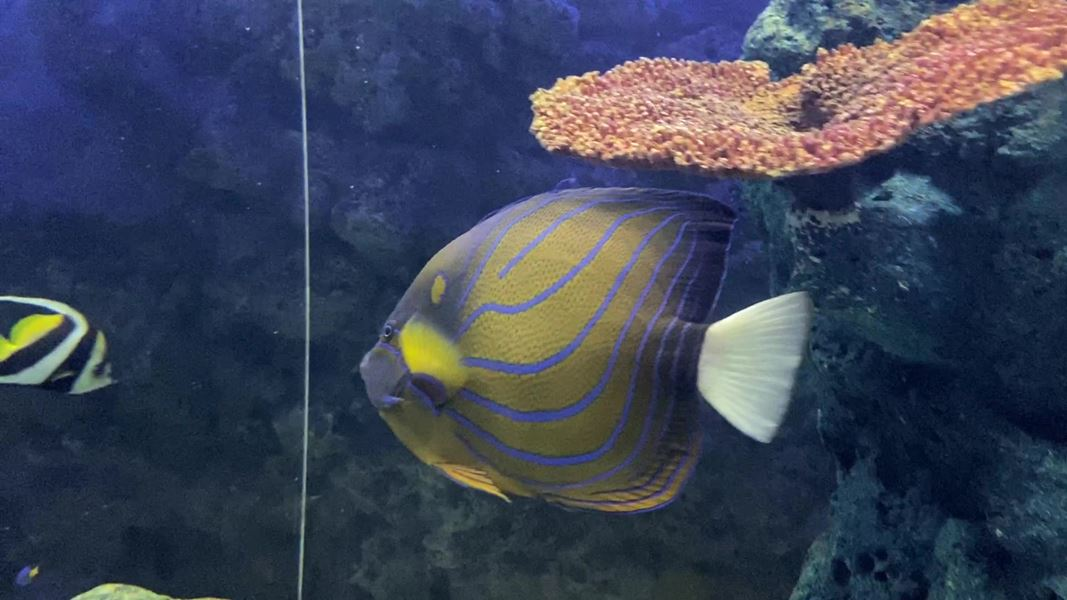Blue ring angelfish: (347, 176, 841, 528)
